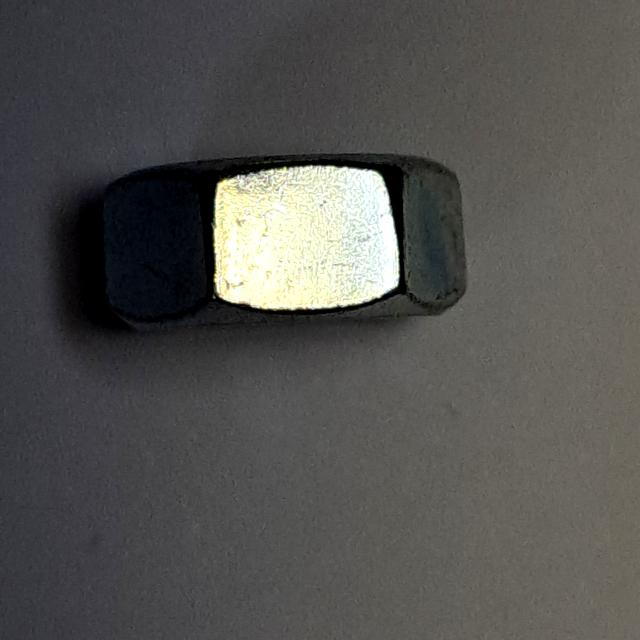Side_Excellent: (87, 139, 483, 349)
